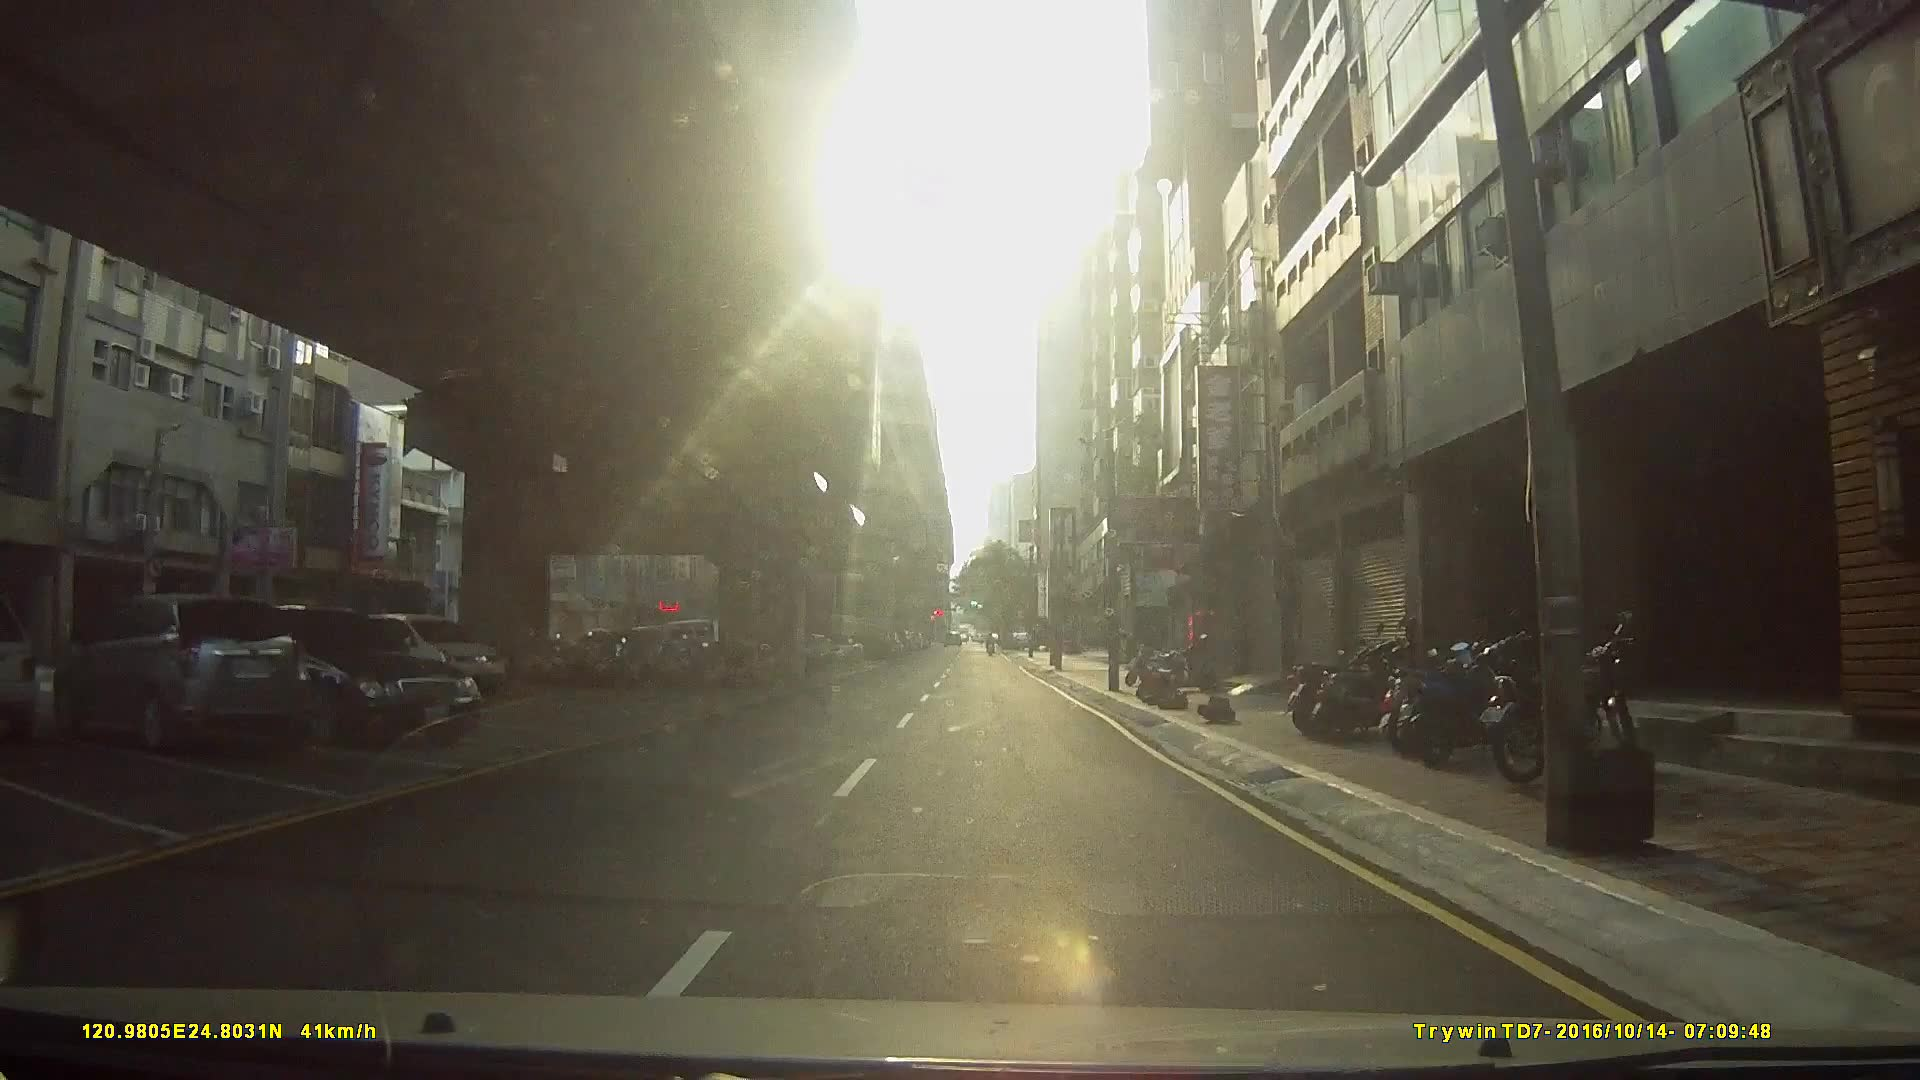vehicle: (47, 589, 310, 752), (198, 603, 477, 744), (349, 609, 505, 694)
